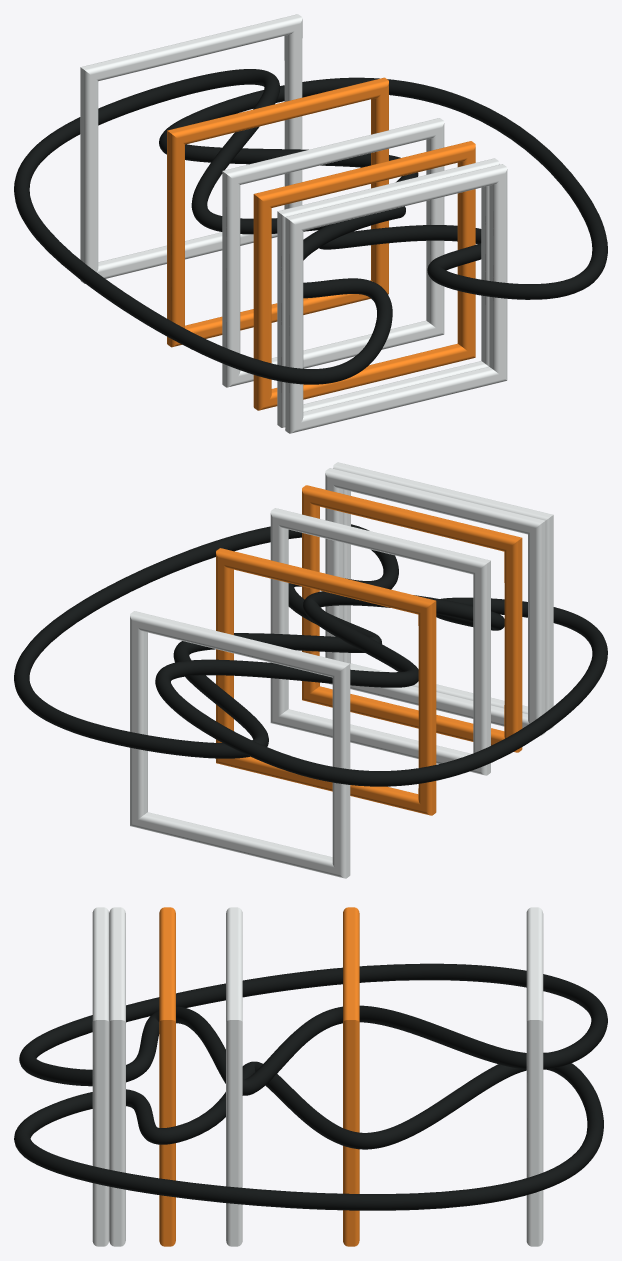
The model's file is geometric-frames.glb.
The picture shows the model from 3 angles, top to bottom: view 1: azimuth 30°, elevation 25°; view 2: azimuth 150°, elevation 25°; view 3: azimuth 270°, elevation 25°; orthographic projection. The views are drawn at different scales.
Visible parts, largest first — view 1: Frame-01, Curve-1, Curve-2, Frame-02, Frame-03, Frame-05, Frame-04; view 2: Curve-1, Frame-01, Frame-05, Curve-2, Frame-03, Frame-04, Frame-02; view 3: Curve-2, Curve-1, Frame-01, Frame-05, Frame-03, Frame-02, Frame-04.
Part boxes in pixels (bbox=[...]): Frame-01: bbox=[277, 158, 507, 433]; Curve-1: bbox=[14, 69, 405, 384]; Curve-2: bbox=[159, 77, 607, 299]; Frame-02: bbox=[253, 141, 475, 410]; Frame-03: bbox=[222, 118, 444, 387]; Frame-05: bbox=[80, 14, 302, 283]; Frame-04: bbox=[167, 77, 388, 347]; Curve-1: bbox=[155, 591, 607, 786]; Frame-01: bbox=[325, 462, 553, 735]; Frame-05: bbox=[130, 611, 350, 878]; Curve-2: bbox=[14, 524, 398, 758]; Frame-03: bbox=[270, 508, 490, 775]; Frame-04: bbox=[216, 548, 436, 815]; Frame-02: bbox=[302, 485, 522, 752]; Curve-2: bbox=[14, 1052, 603, 1210]; Curve-1: bbox=[19, 963, 607, 1095]; Frame-01: bbox=[92, 907, 125, 1246]; Frame-05: bbox=[526, 907, 543, 1246]; Frame-03: bbox=[226, 907, 242, 1246]; Frame-02: bbox=[159, 907, 175, 1246]; Frame-04: bbox=[343, 907, 359, 1246].
Size of the model in its own units: 345 by 150 by 356.
